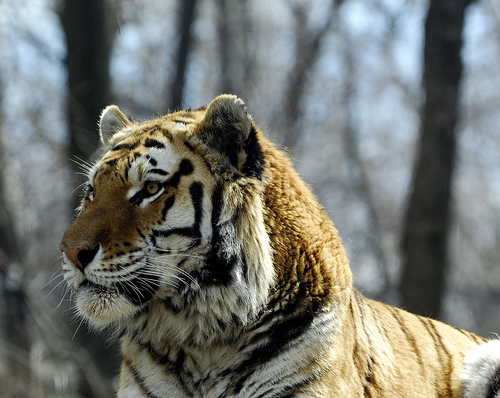Tigre: (55, 76, 485, 392)
